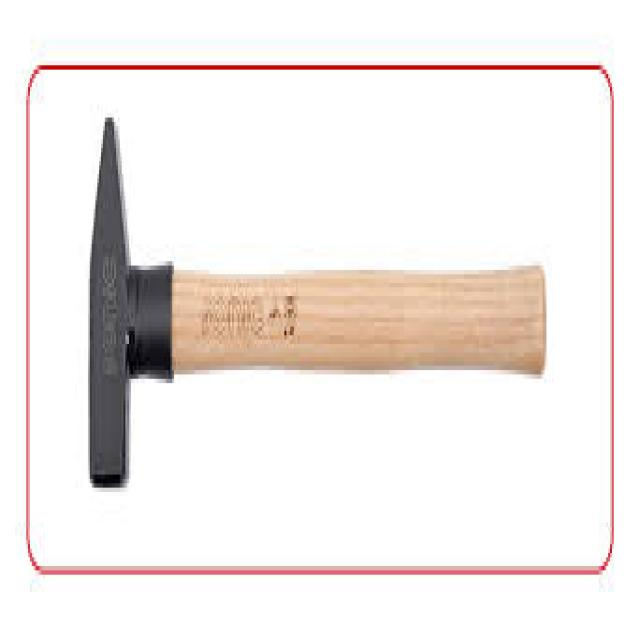hammer: (47, 76, 581, 501)
